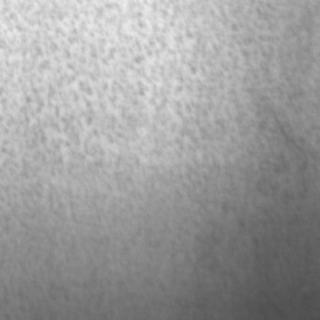pitted_surface: (0, 0, 314, 292)
